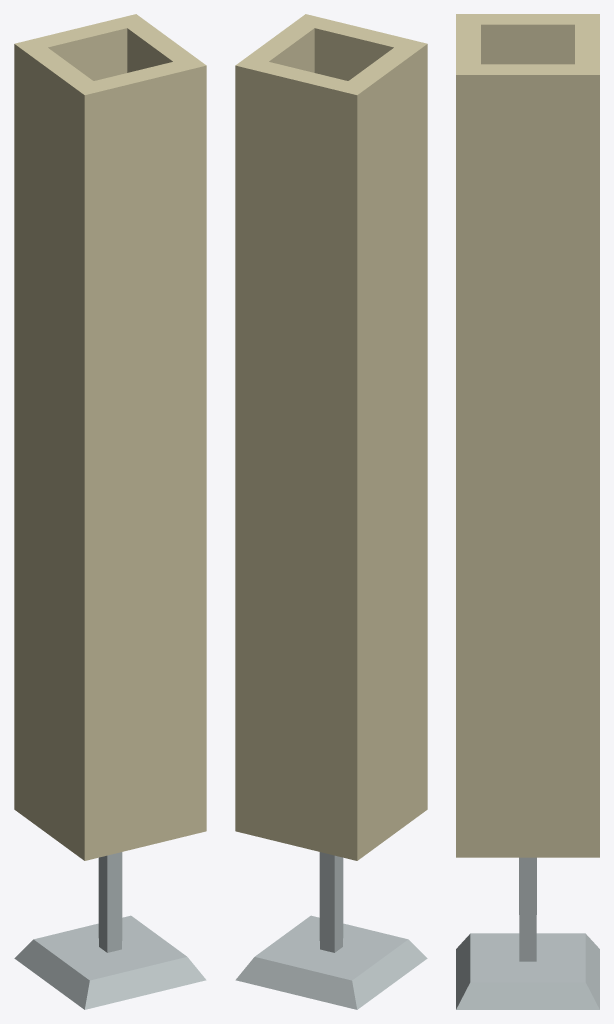
Rendered from lampSquareFloor.glb.
The picture shows the model from 3 angles, left to right: view 1: azimuth 30°, elevation 25°; view 2: azimuth 150°, elevation 25°; view 3: azimuth 270°, elevation 25°; orthographic projection. The views are drawn at different scales.
Parts seen in each view (by area): view 1: lampSquareFloor; view 2: lampSquareFloor; view 3: lampSquareFloor.
Boxes of the visible parts, left/top/right/bottom form: lampSquareFloor: left=14, top=14, right=206, bottom=1009; lampSquareFloor: left=235, top=14, right=427, bottom=1009; lampSquareFloor: left=456, top=14, right=599, bottom=1009.
Size of the model in its own units: 0.12 by 0.86 by 0.12.
